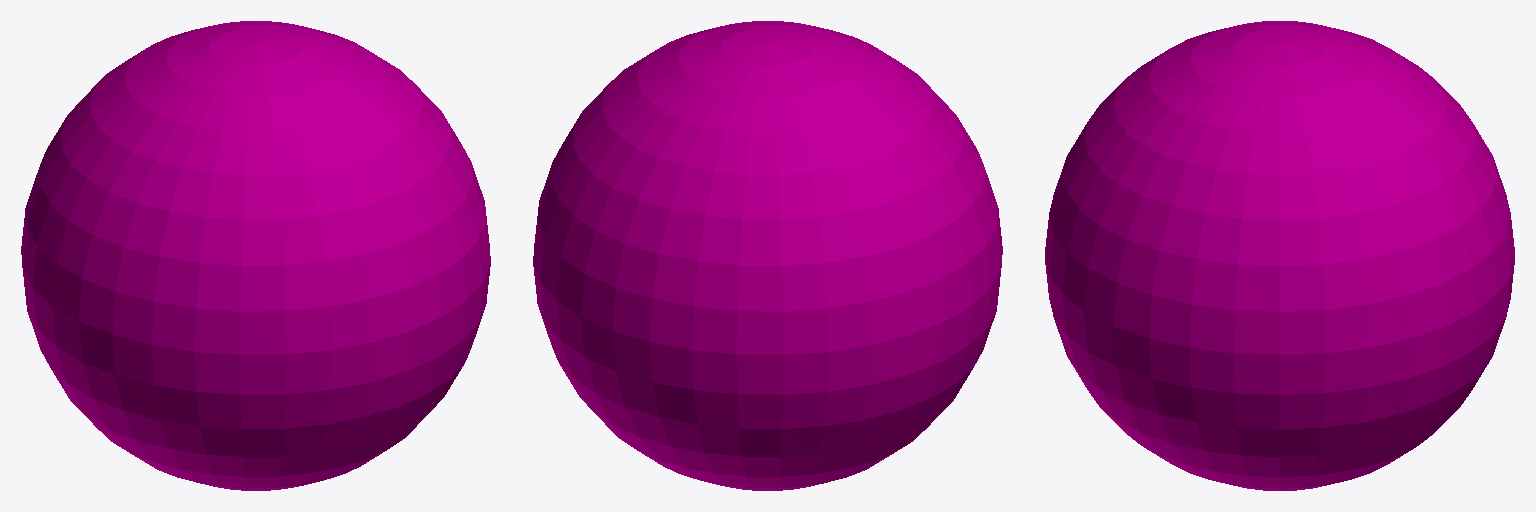
File: Player.obj
3 views of the same model, side by side, from view 1: azimuth 30°, elevation 25°; view 2: azimuth 150°, elevation 25°; view 3: azimuth 270°, elevation 25° (orthographic).
Parts seen in each view (by area): view 1: Player; view 2: Player; view 3: Player.
Boxes of the visible parts, <box> form: Player: <box>21,21,490,490</box>; Player: <box>533,21,1002,490</box>; Player: <box>1045,21,1514,490</box>.
Size of the model in its own units: 0.5323 by 0.5323 by 0.5323.